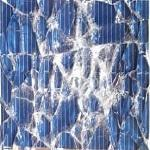Crack: (0, 2, 149, 149)
